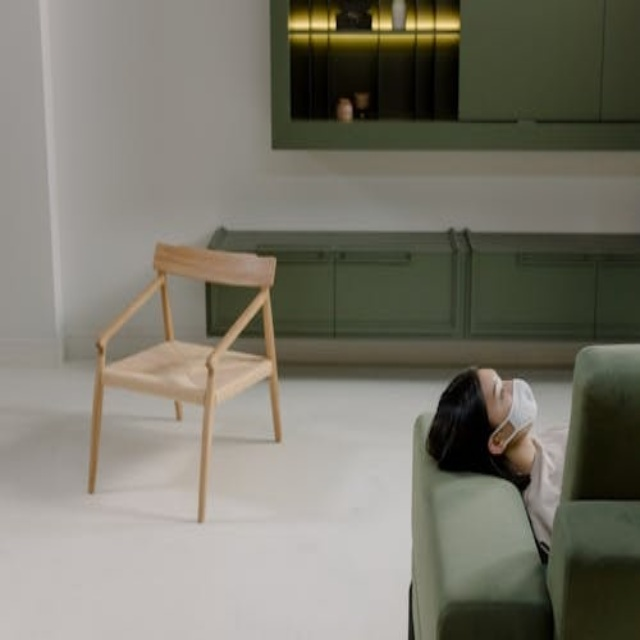Mascara: (489, 377, 538, 455)
Sin_gafas: (488, 363, 509, 427)
